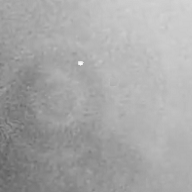Target: (76, 60, 84, 66)
